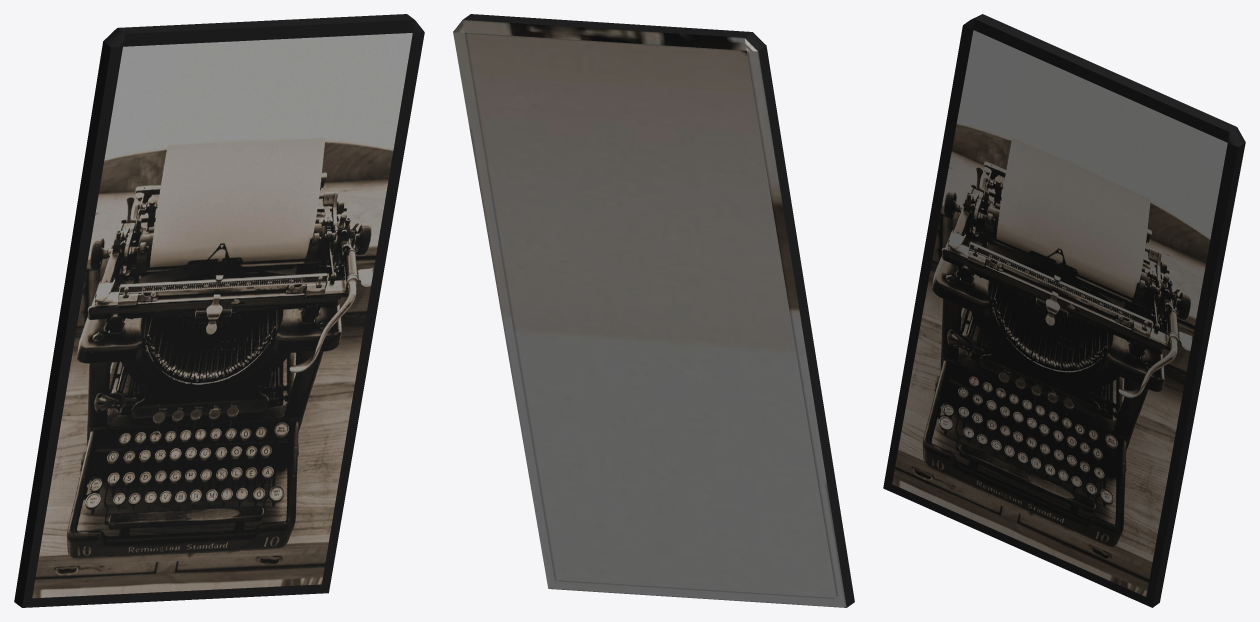
File: b_tablo.obj
The picture shows the model from 3 angles, left to right: view 1: azimuth 30°, elevation 25°; view 2: azimuth 150°, elevation 25°; view 3: azimuth 330°, elevation 25°; orthographic projection. The views are drawn at different scales.
Parts seen in each view (by area): view 1: Plane.017_tablo_eski, Plane.017_m_black; view 2: Plane.017_tablo_eski, Plane.017_m_black; view 3: Plane.017_tablo_eski, Plane.017_m_black.
Part boxes in pixels (x1,y1,x2,y2): Plane.017_tablo_eski: [32, 33, 412, 598]; Plane.017_m_black: [14, 14, 424, 607]; Plane.017_tablo_eski: [453, 20, 846, 607]; Plane.017_m_black: [463, 14, 854, 607]; Plane.017_tablo_eski: [892, 30, 1227, 596]; Plane.017_m_black: [883, 14, 1245, 607].
Size of the model in its own units: 12.98 by 18.81 by 0.6305.
